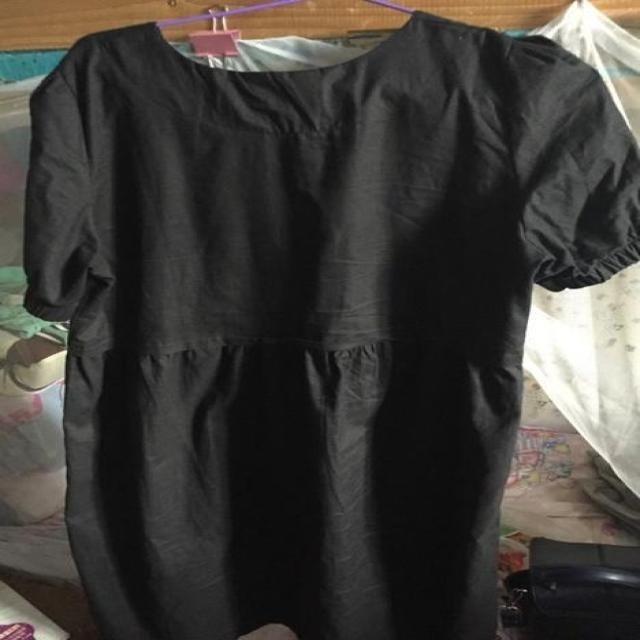short sleeve dress: (23, 13, 636, 639)
